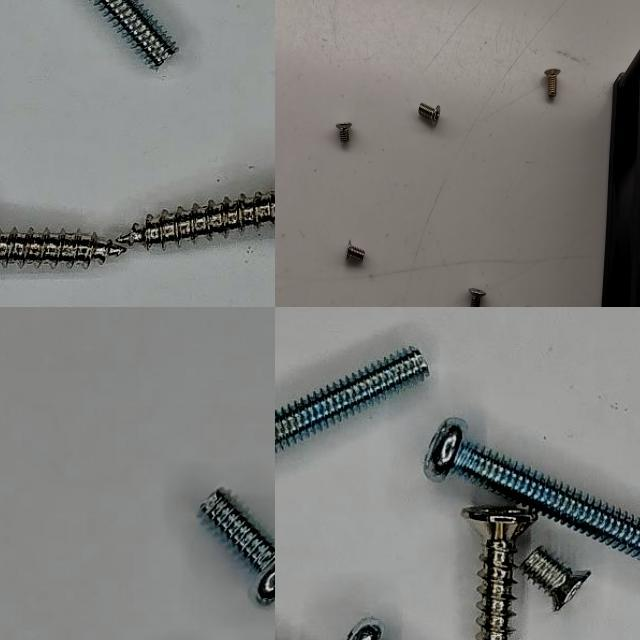Screw: (425, 418, 640, 558), (275, 347, 429, 453), (462, 506, 538, 640), (201, 488, 275, 606), (118, 193, 275, 248), (0, 228, 126, 268), (521, 547, 592, 612), (214, 194, 275, 233), (415, 100, 444, 130), (542, 66, 564, 101), (344, 238, 366, 267), (334, 118, 356, 146), (466, 284, 488, 307)
